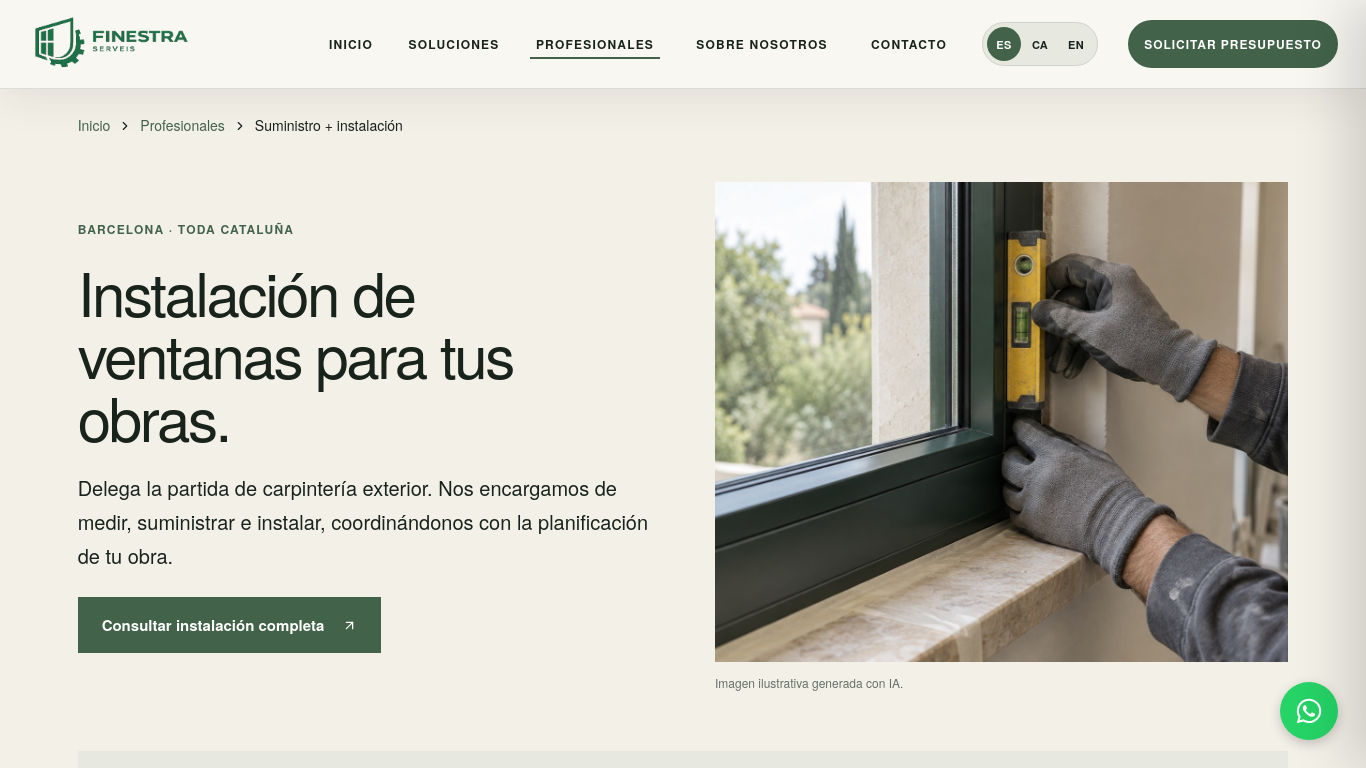
Test: instalacion opens a dedicated page and carries the choice to contact
Expected: the heading "Instalación de ventanas para tus obras." is shown, [78,248,513,459]
Click the link "Consultar instalación completa".
click(230, 625)  # box [78,597,381,653]
(page scrolled)
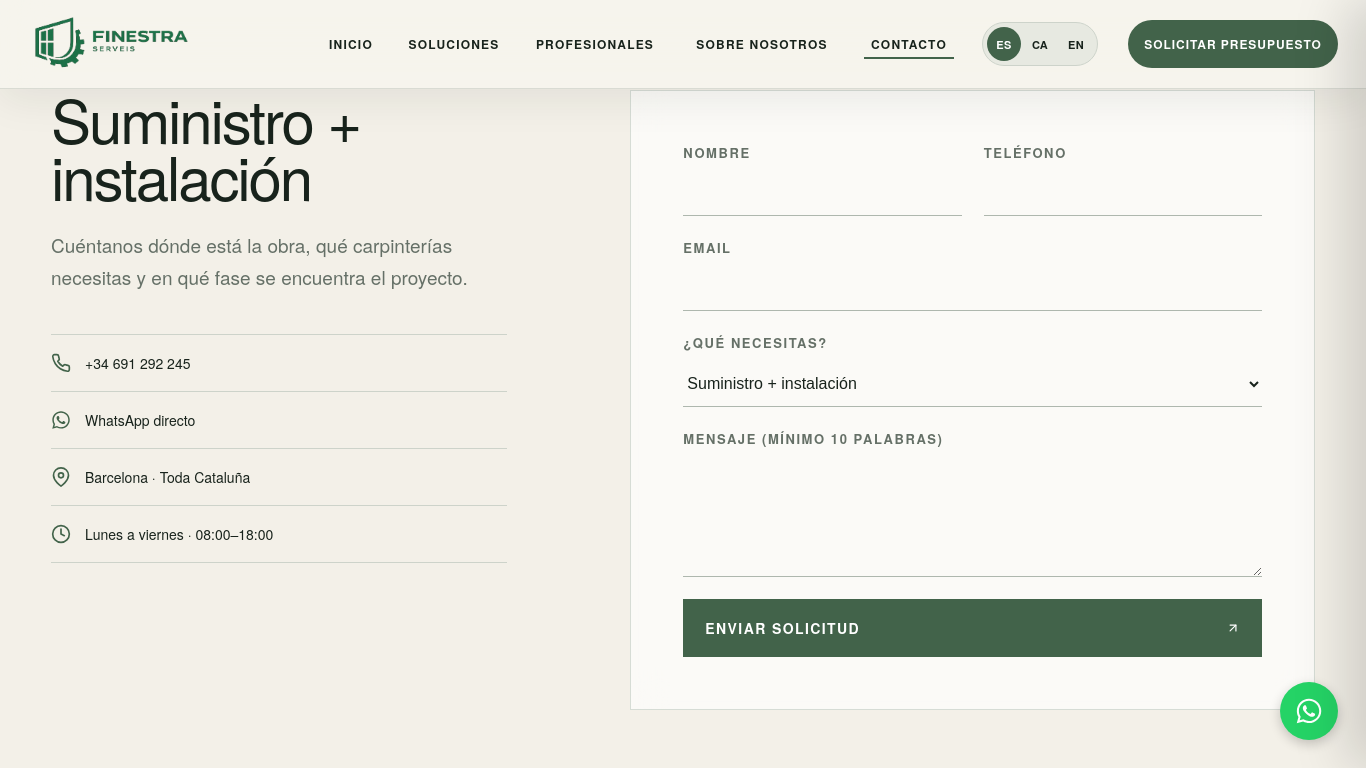
Expected: the dropdown shows "Suministro + instalación", [683,361,1262,407]
